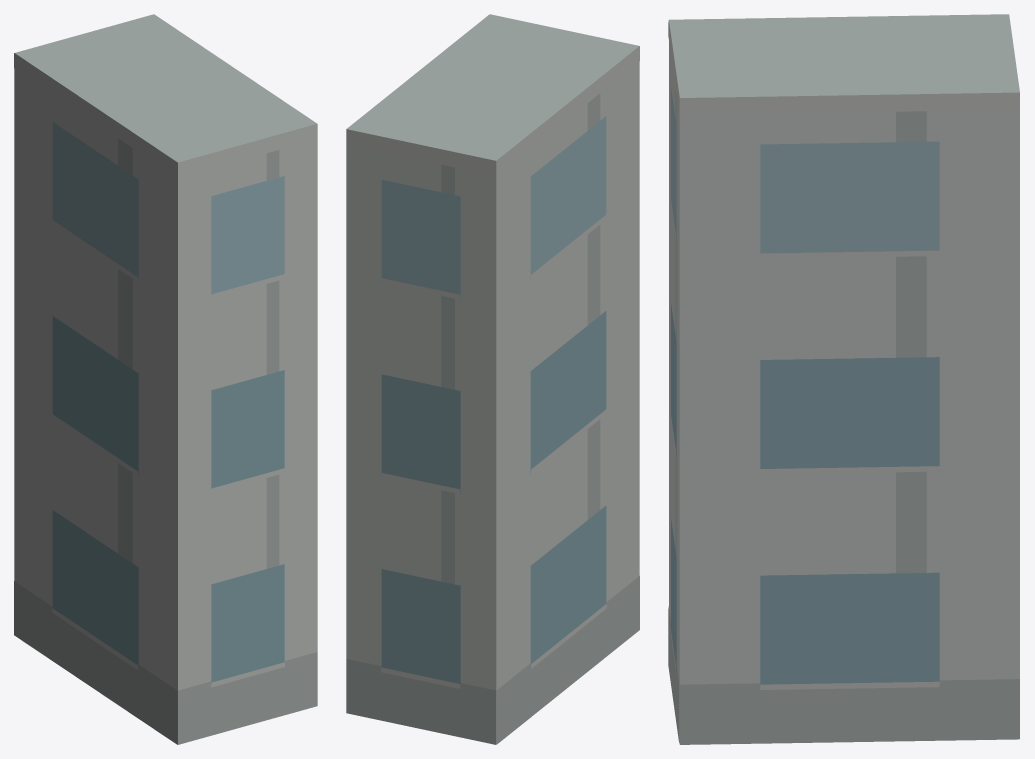
Rendered from survey-upis-32967609.glb.
3 views of the same model, side by side, from view 1: azimuth 30°, elevation 25°; view 2: azimuth 150°, elevation 25°; view 3: azimuth 270°, elevation 25° (orthographic). The views are drawn at different scales.
Visible parts, largest first — view 1: survey-upis-32967609.tmp; view 2: survey-upis-32967609.tmp; view 3: survey-upis-32967609.tmp.
Boxes of the visible parts, x1,y1,x2,y2 form: survey-upis-32967609.tmp: [14, 14, 317, 744]; survey-upis-32967609.tmp: [346, 14, 639, 744]; survey-upis-32967609.tmp: [668, 14, 1019, 744].
Size of the model in its own units: 2.56 by 9.15 by 4.51.
